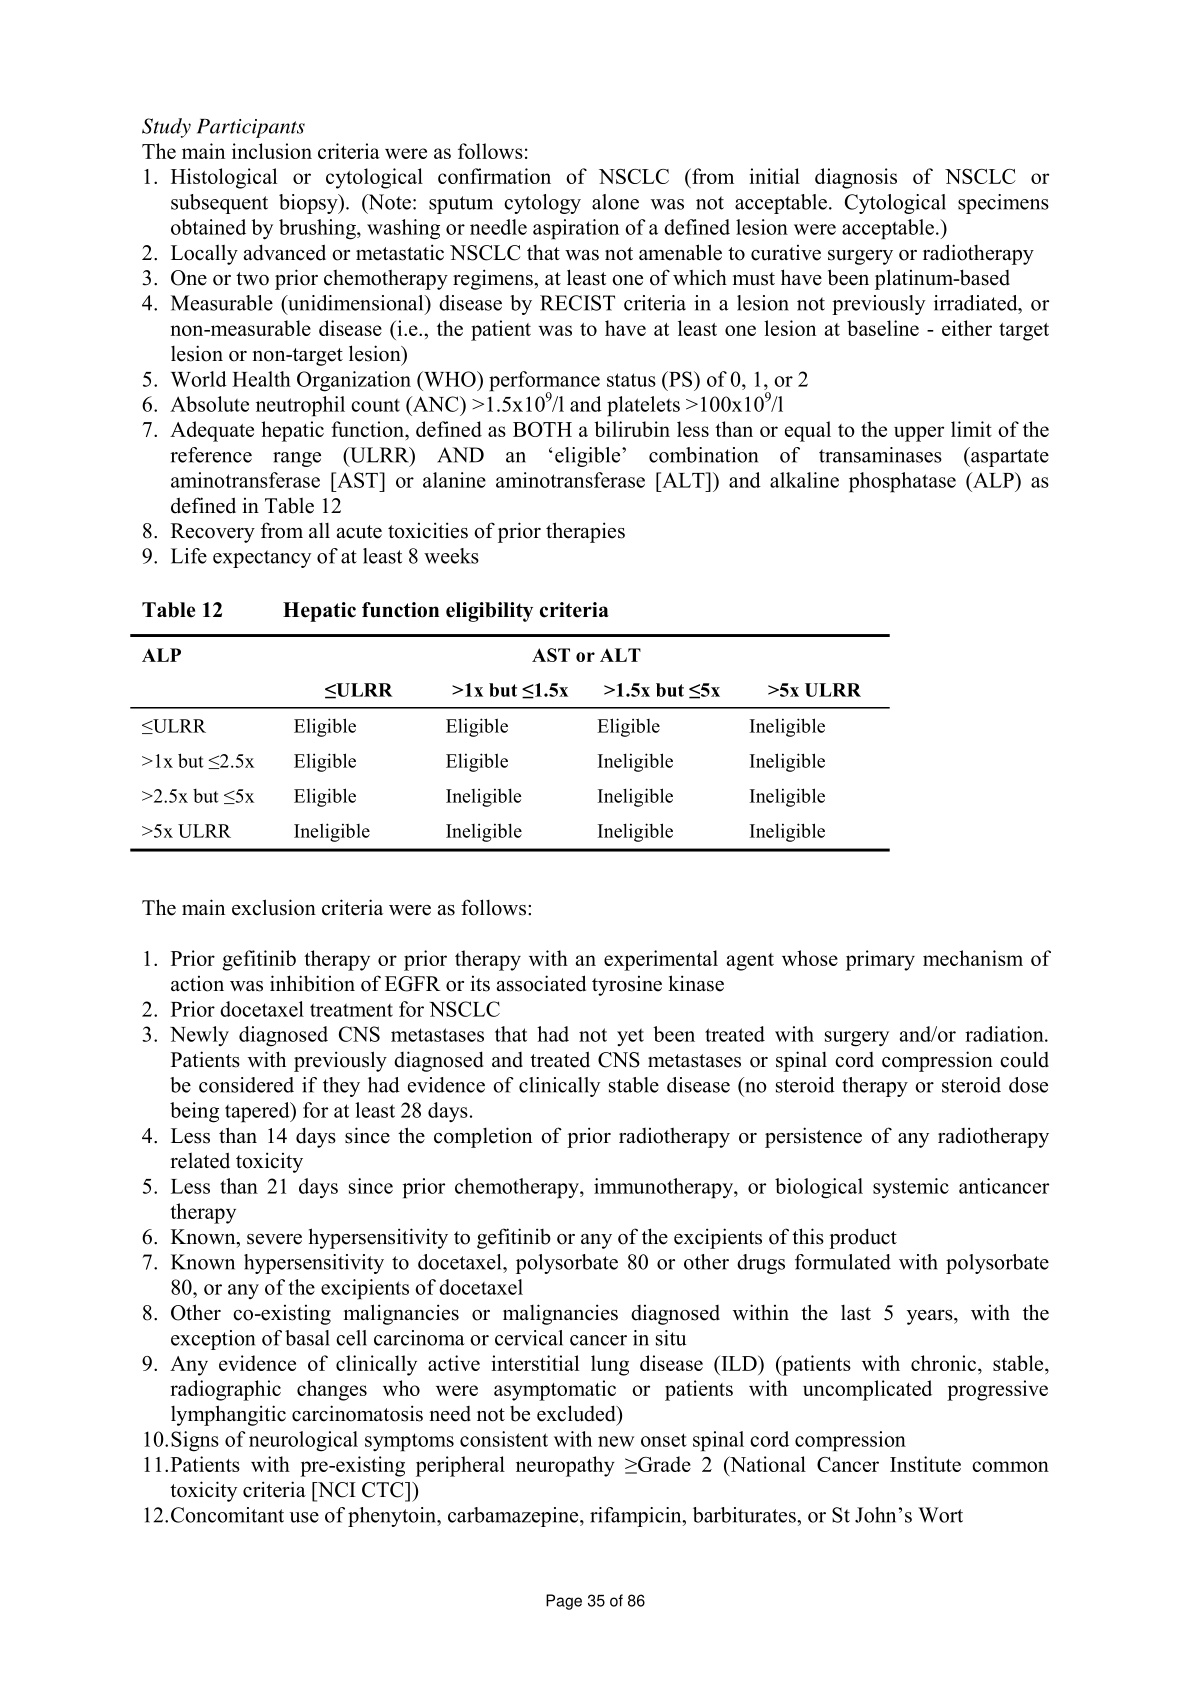partial_lined_merged_cells: (129, 632, 891, 854)
